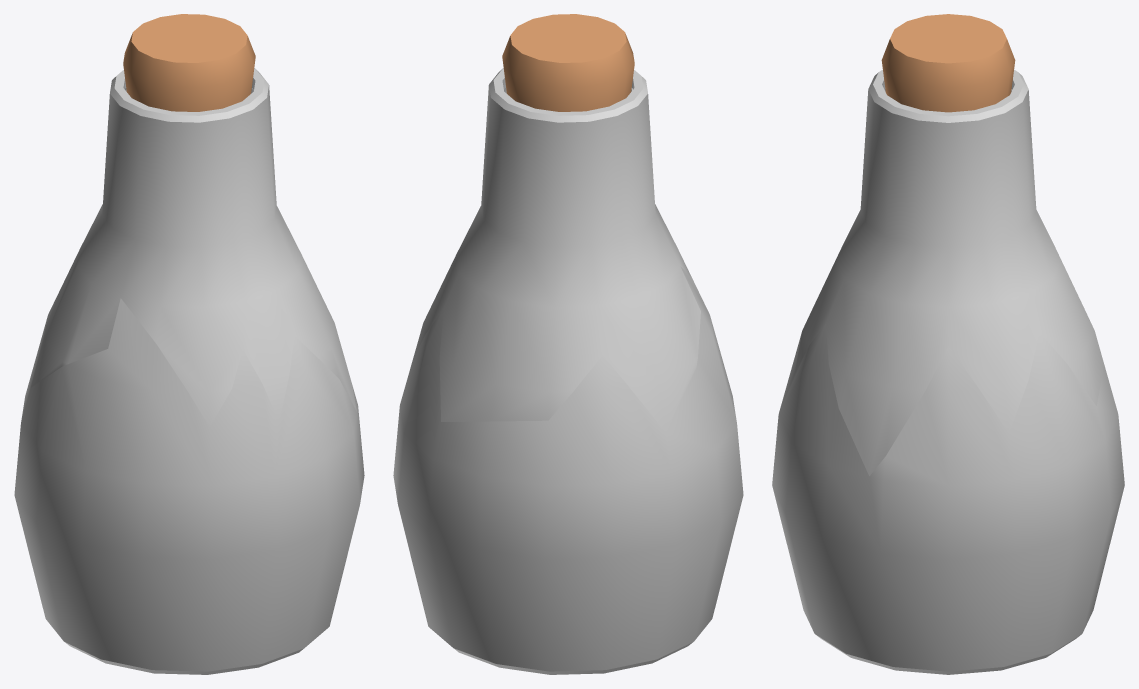
The model's file is brokenlargebottle.fbx.
3 views of the same model, side by side, from view 1: azimuth 30°, elevation 25°; view 2: azimuth 150°, elevation 25°; view 3: azimuth 270°, elevation 25° (orthographic).
Parts seen in each view (by area): view 1: brokenBottle, brokenBottle.001, brokenBottle.002; view 2: brokenBottle, brokenBottle.001, brokenBottle.002; view 3: brokenBottle, brokenBottle.001, brokenBottle.002.
Part boxes in pixels (bbox=[...]): brokenBottle: bbox=[14, 289, 364, 674]; brokenBottle.001: bbox=[31, 68, 356, 426]; brokenBottle.002: bbox=[123, 14, 255, 111]; brokenBottle: bbox=[393, 266, 743, 674]; brokenBottle.001: bbox=[412, 68, 700, 432]; brokenBottle.002: bbox=[502, 14, 634, 111]; brokenBottle: bbox=[772, 306, 1124, 674]; brokenBottle.001: bbox=[794, 69, 1104, 475]; brokenBottle.002: bbox=[881, 14, 1015, 112].
Bounding box in the file's own units: 0.2699 × 0.488 × 0.2699.
